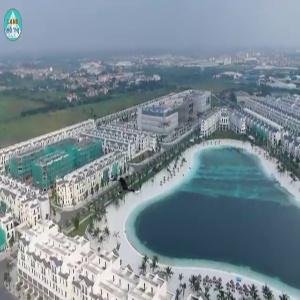drone: (108, 164, 147, 203)
